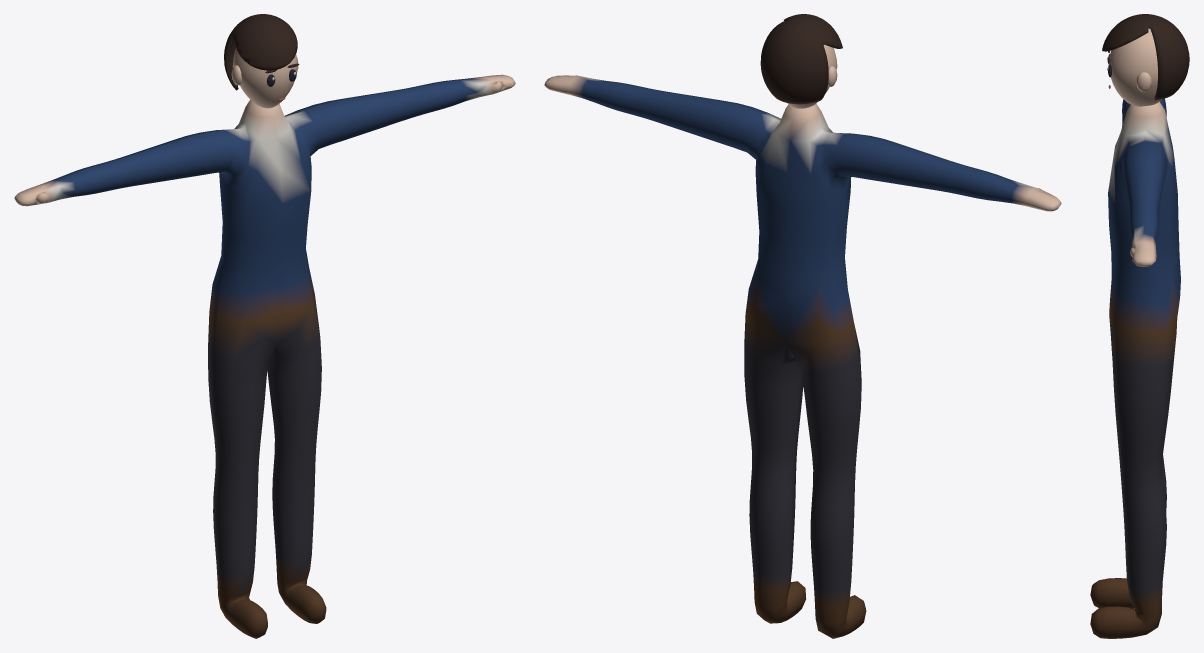
Rendered from human.lod0.glb.
3 renders of one model, left to right at view 1: azimuth 30°, elevation 25°; view 2: azimuth 150°, elevation 25°; view 3: azimuth 270°, elevation 25°, orthographic. The views are drawn at different scales.
Visible parts, largest first — view 1: human; view 2: human; view 3: human.
Part boxes in pixels (x1,y1,x2,y2): human: [14, 14, 515, 638]; human: [544, 14, 1061, 638]; human: [1090, 14, 1189, 638].
Size of the model in its own units: 1.57 by 1.81 by 0.2686.
